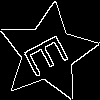E: (22, 28, 78, 79)
